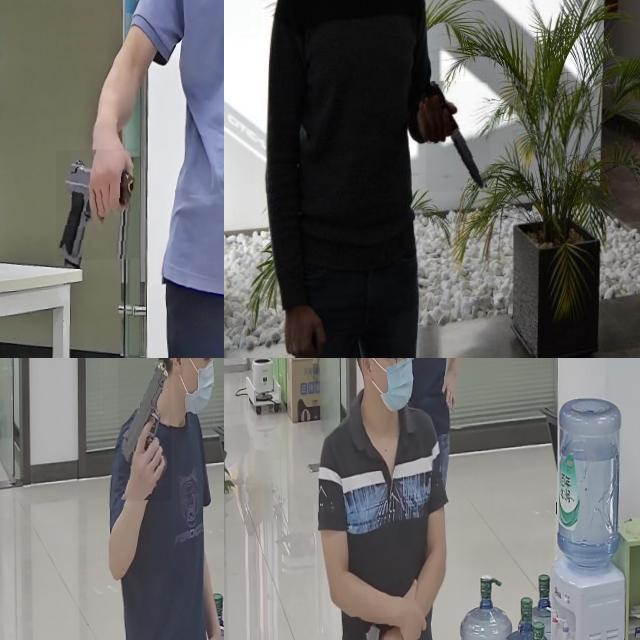-: (425, 83, 490, 194)
gun-knife-thesis - v11 Yolov5 augmented: (55, 150, 138, 262), (118, 360, 172, 504)
